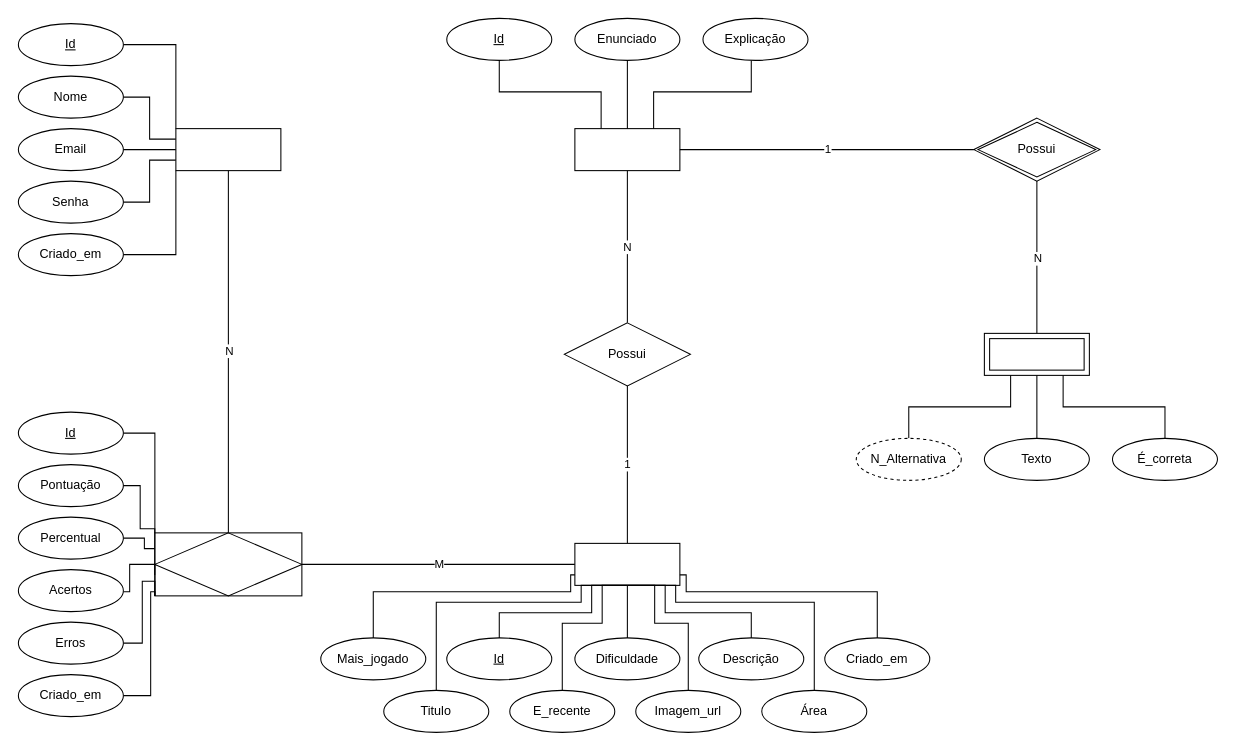
Some shapes in this 1236 by 751 pixel diagram are drawn without their labels. The box of each missing label's shape, as (x1, y1, x2, y2) in pixels:
Alternativa: (983, 332, 1089, 375)
Cliente: (175, 128, 281, 171)
Questão: (574, 128, 680, 171)
Quiz: (574, 542, 680, 585)
Tentativa: (154, 532, 302, 596)
